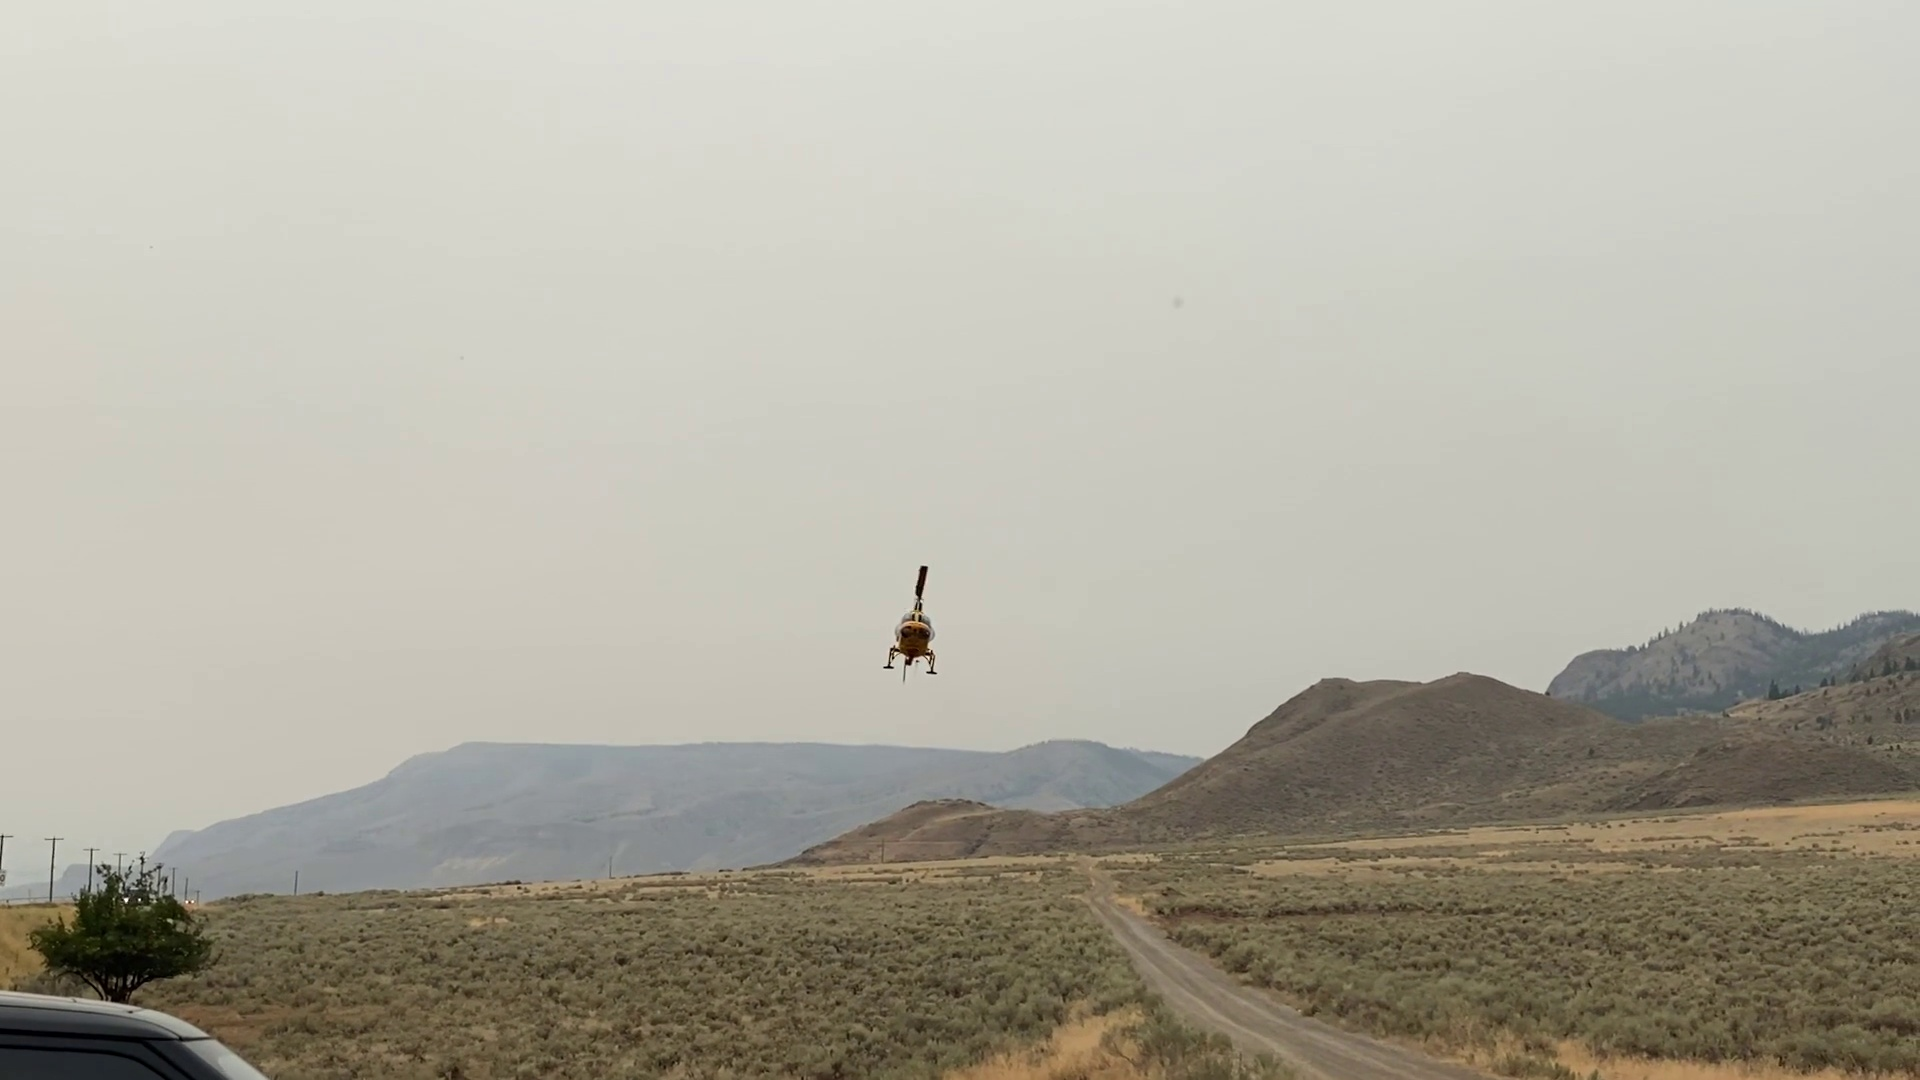heli: (884, 564, 949, 678)
